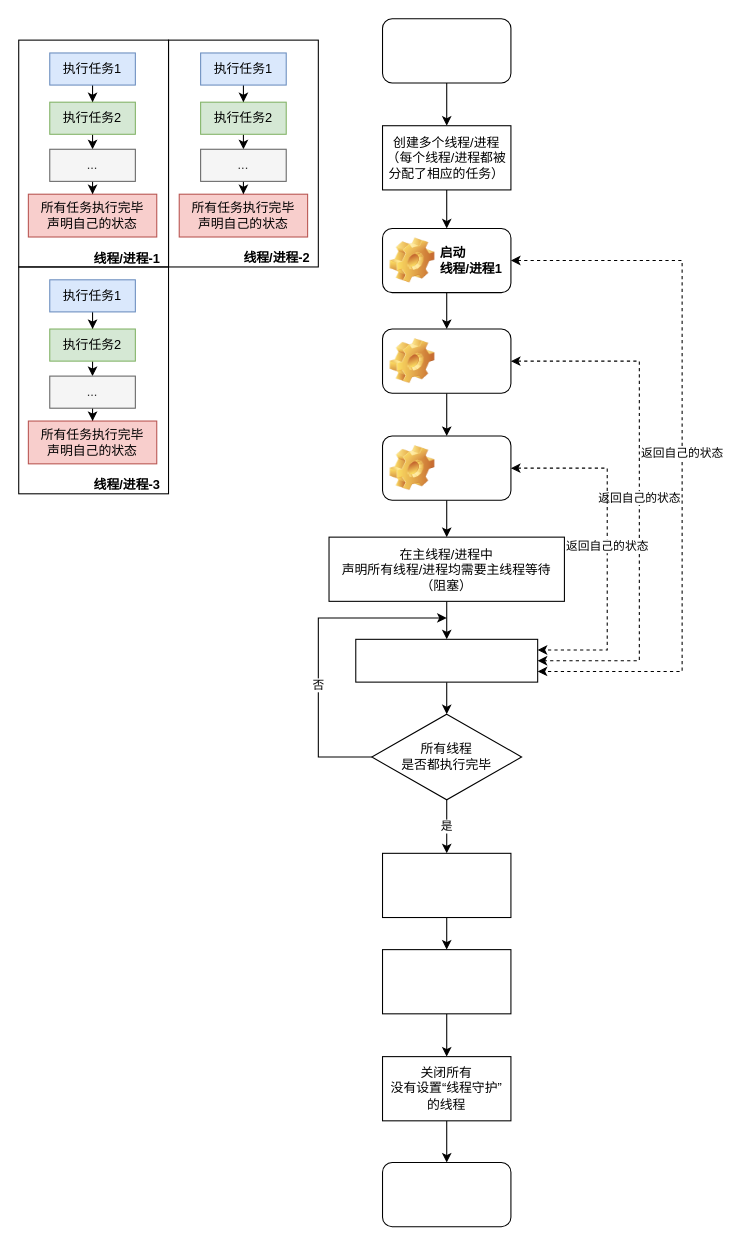
The diagram is 742 pixels wide and 1245 high, and some of its shapes have lost their labels. The centre of each missing label's shape, as x and y in pixels:
"主线程/主进程" goes at point (446, 50).
"主线程/进程正式结束" goes at point (446, 1194).
"启动 线程/进程2" goes at point (446, 360).
"启动 线程/进程3" goes at point (446, 467).
"在主线程/进程 结束之前" goes at point (446, 981).
"在主线程/进程中 等待所有线程/进程执行完毕" goes at point (446, 660).
"执行主线程/进程中 其他代码" goes at point (446, 885).
